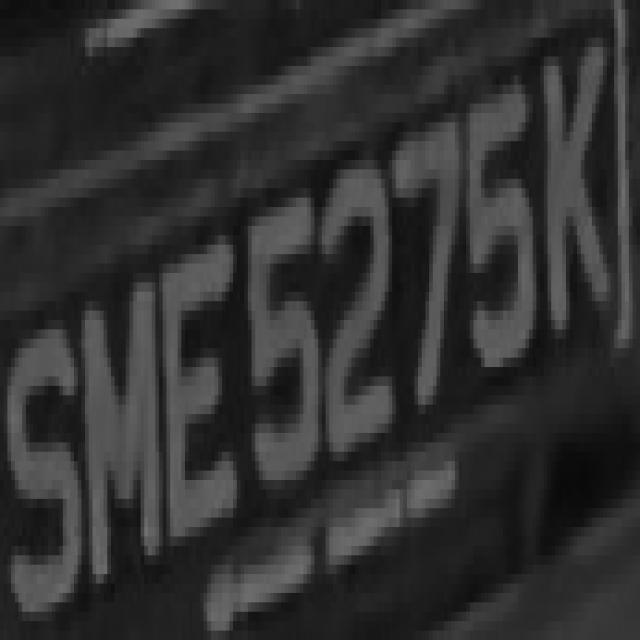2: (307, 151, 396, 480)
5: (240, 179, 326, 499), (458, 76, 532, 396)
7: (374, 113, 466, 433)
E: (163, 235, 240, 574)
M: (66, 282, 162, 602)
S: (0, 4, 1, 10)
